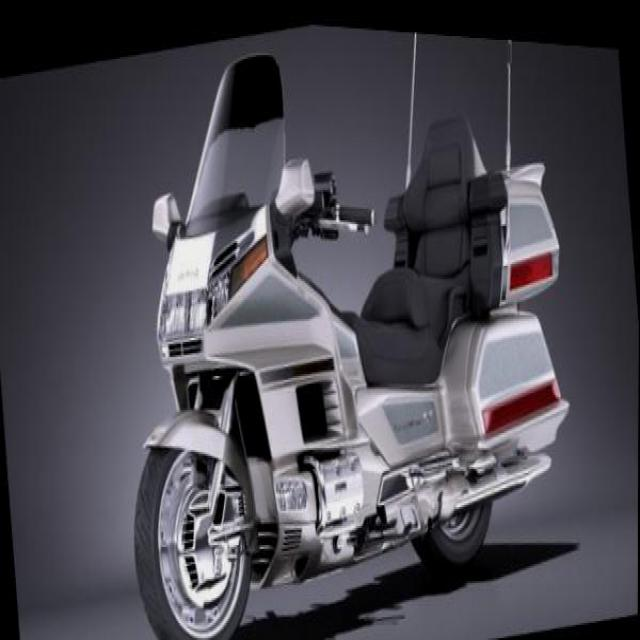Gold Wing: (94, 6, 588, 638)
